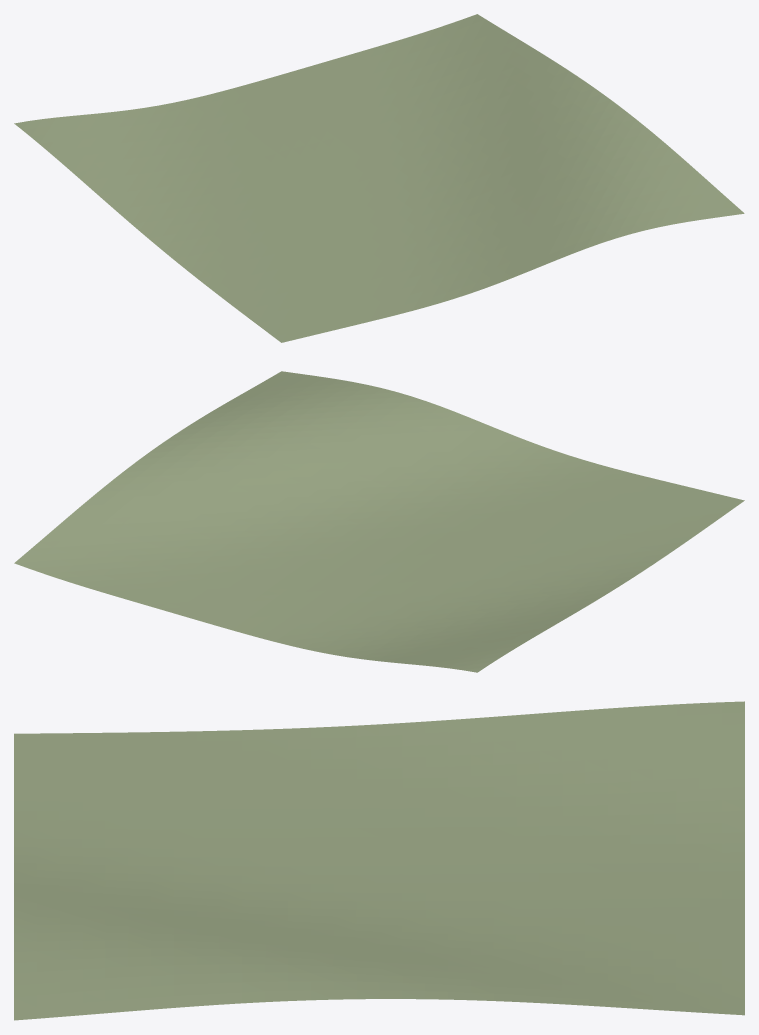
Rendered from desert-5-9.glb.
3 renders of one model, top to bottom at view 1: azimuth 30°, elevation 25°; view 2: azimuth 150°, elevation 25°; view 3: azimuth 270°, elevation 25°, orthographic. The views are drawn at different scales.
Parts seen in each view (by area): view 1: desert-5-9; view 2: desert-5-9; view 3: desert-5-9.
Part boxes in pixels (x1=…): desert-5-9: x1=14, y1=14, x2=744, y2=342; desert-5-9: x1=14, y1=371, x2=744, y2=672; desert-5-9: x1=14, y1=701, x2=744, y2=1020.
Size of the model in its own units: 512 by 34.02 by 512.
